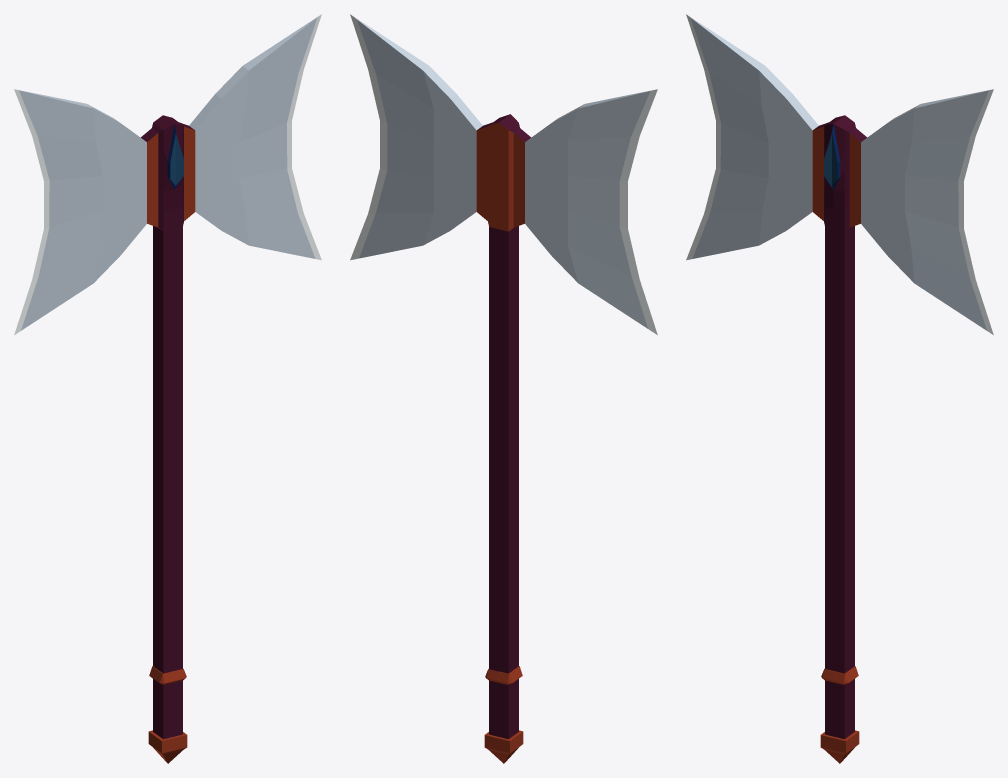
Rendered from big_axe.fbx.
3 views of the same model, side by side, from view 1: azimuth 30°, elevation 25°; view 2: azimuth 150°, elevation 25°; view 3: azimuth 330°, elevation 25° (orthographic).
Parts seen in each view (by area): view 1: Cube; view 2: Cube; view 3: Cube.
Part boxes in pixels (x1,y1,x2,y2): Cube: (14, 14, 321, 763); Cube: (350, 14, 657, 763); Cube: (686, 14, 993, 763).
Bounding box in the file's own units: 1183 × 2615 × 107.
